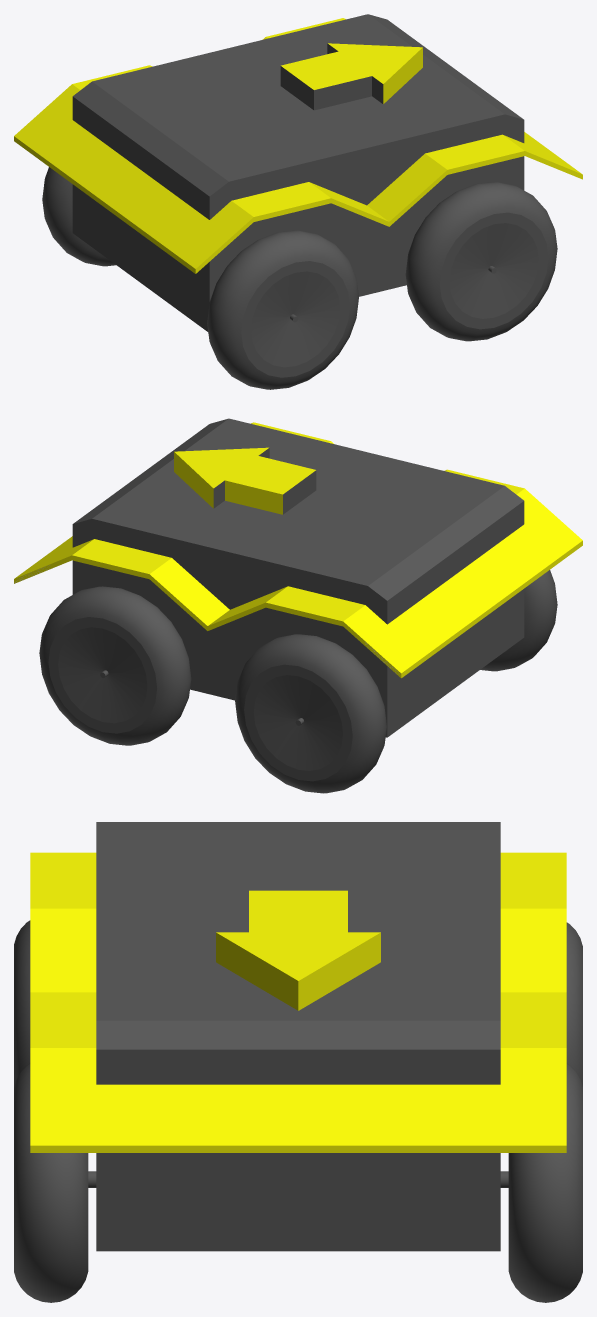
The model's file is jackal.dae.
3 views of the same model, one above another, from view 1: azimuth 30°, elevation 25°; view 2: azimuth 150°, elevation 25°; view 3: azimuth 270°, elevation 25° (orthographic). The views are drawn at different scales.
Parts seen in each view (by area): view 1: SketchUp (×10); view 2: SketchUp (×10); view 3: SketchUp (×8).
Boxes of the visible parts, x1,y1,x2,y2 form: SketchUp (×10): [14, 14, 582, 389]; SketchUp (×10): [14, 418, 582, 793]; SketchUp (×8): [14, 822, 582, 1302].
Size of the model in its own units: 20 by 17.25 by 11.
